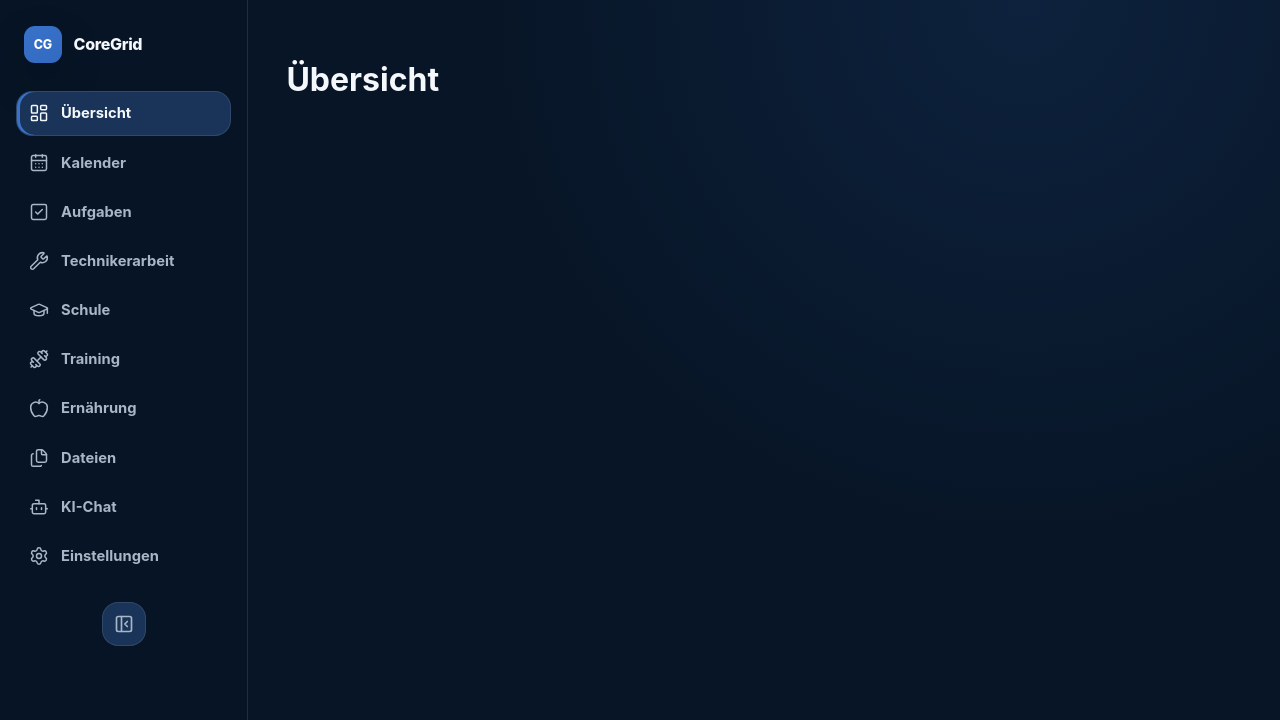
Test: AppShell › toggles the desktop sidebar and persists the manual choice
Step 1. Click the button named "Seitenleiste einklappen" → (124, 624), box [102,602,146,646]
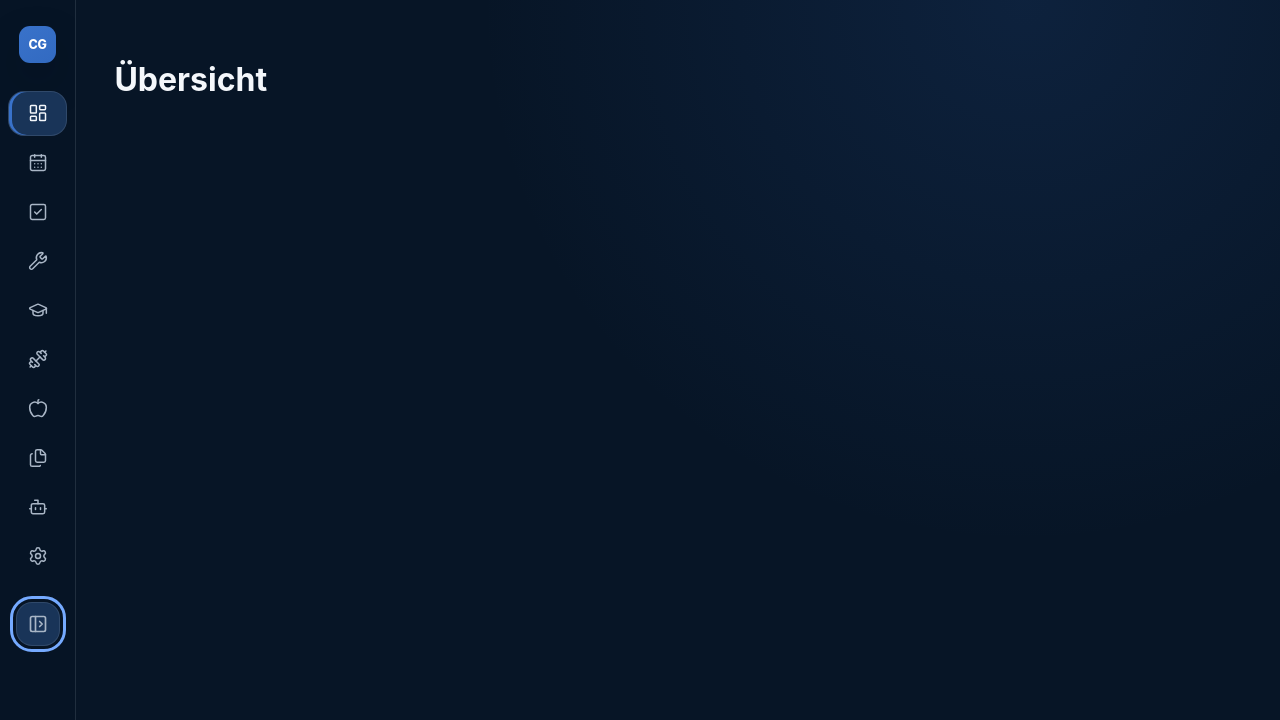
Now the button named "Seitenleiste ausklappen" is shown, box [16,602,60,646]
